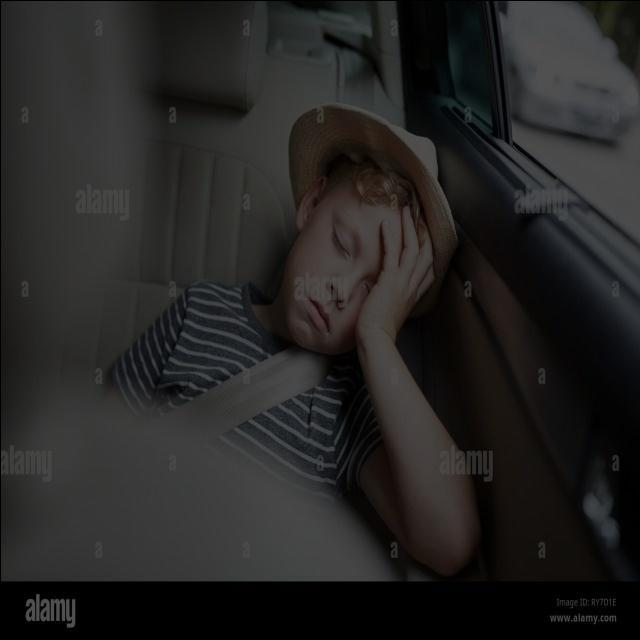sleepy: (289, 194, 375, 353)
